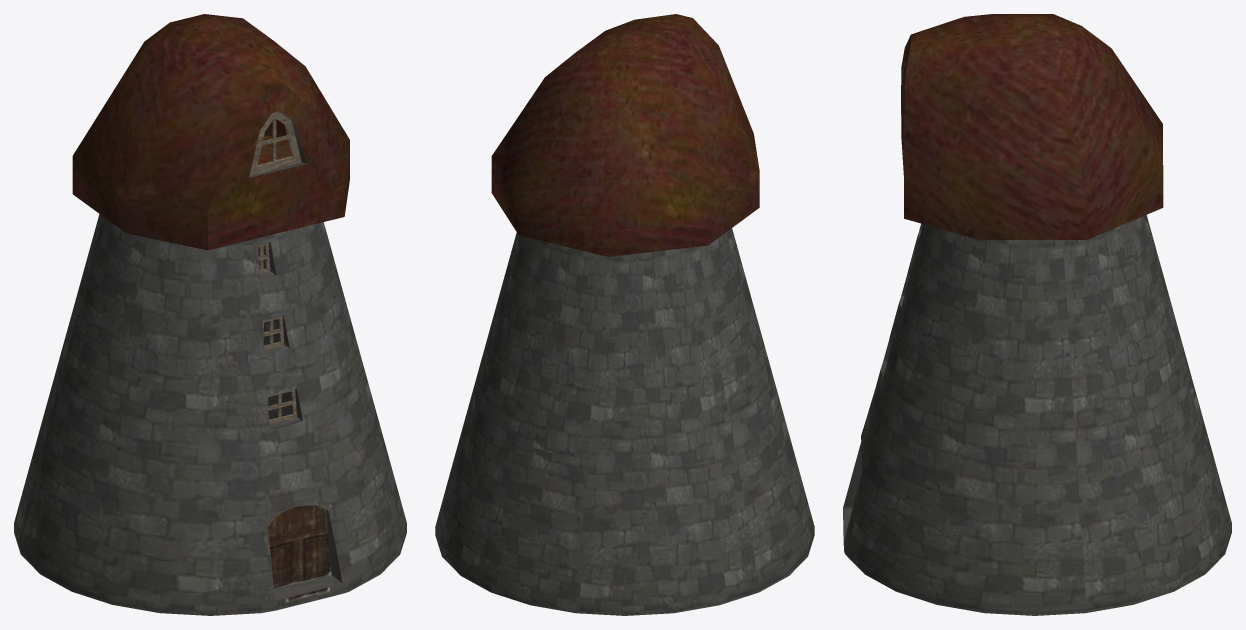
File: windmill.glb
The picture shows the model from 3 angles, left to right: view 1: azimuth 30°, elevation 25°; view 2: azimuth 150°, elevation 25°; view 3: azimuth 270°, elevation 25°; orthographic projection. The views are drawn at different scales.
Visible parts, largest first — view 1: prefab; view 2: prefab; view 3: prefab.
Boxes of the visible parts, box(x1,y1,x2,y2) form: prefab: box(14, 14, 406, 615); prefab: box(435, 14, 814, 615); prefab: box(843, 14, 1231, 615).
Bounding box in the file's own units: 7.59 × 10.96 × 7.5.
1 material, 1 textured.
